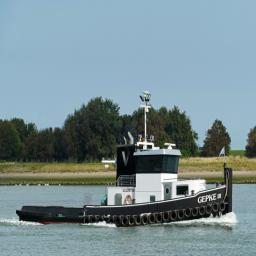tugboat: (15, 91, 235, 232)
